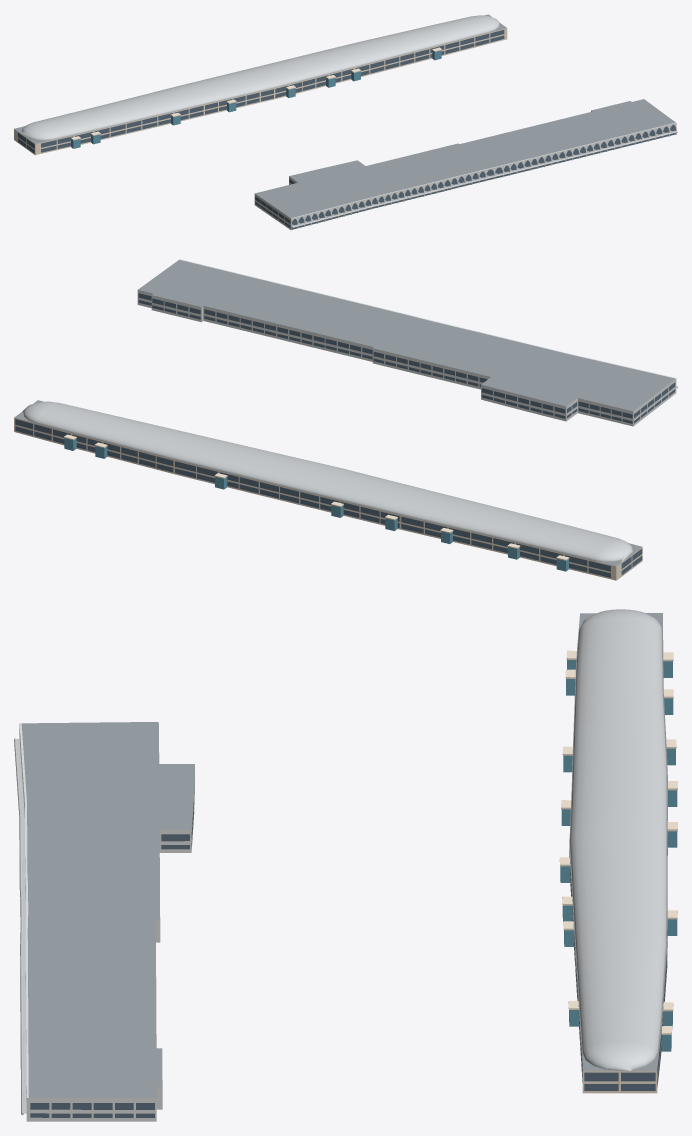
Rendered from dubai-dxb-terminal-1.glb.
3 views of the same model, one above another, from view 1: azimuth 30°, elevation 25°; view 2: azimuth 150°, elevation 25°; view 3: azimuth 270°, elevation 25° (orthographic). The views are drawn at different scales.
Parts seen in each view (by area): view 1: Dubai International Airport Terminal 1 and Concourse C; view 2: Dubai International Airport Terminal 1 and Concourse C; view 3: Dubai International Airport Terminal 1 and Concourse C.
Part boxes in pixels (bbox=[...]): Dubai International Airport Terminal 1 and Concourse C: bbox=[14, 14, 677, 230]; Dubai International Airport Terminal 1 and Concourse C: bbox=[14, 259, 677, 580]; Dubai International Airport Terminal 1 and Concourse C: bbox=[14, 609, 677, 1121].
Bounding box in the file's own units: 841 × 28 × 485.
